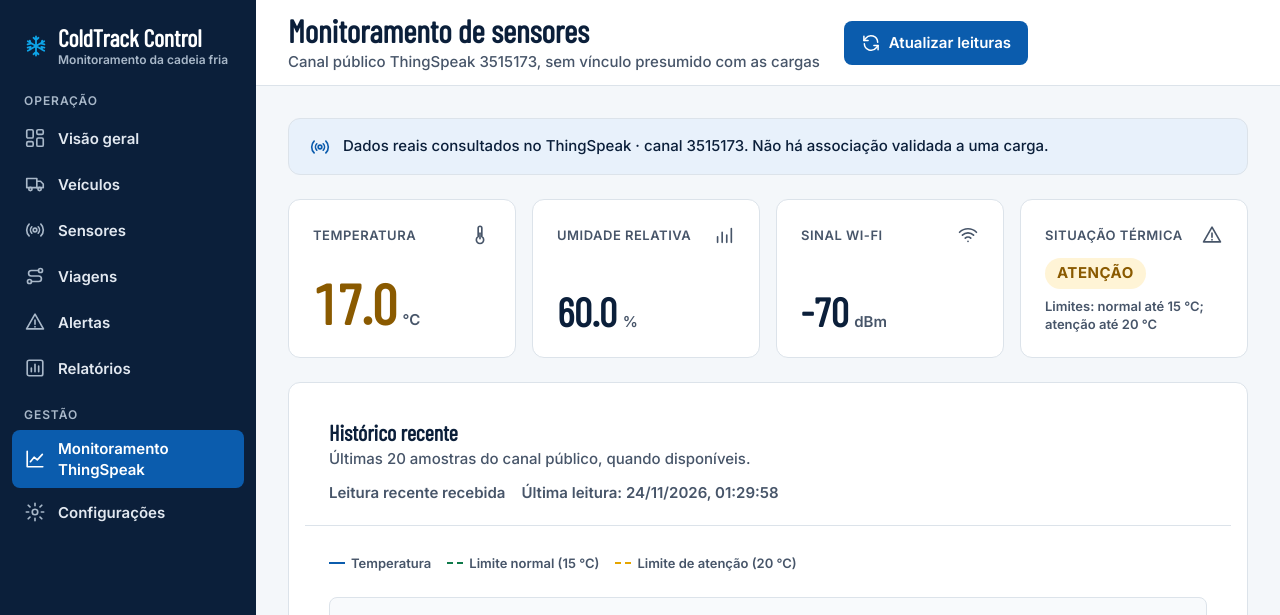
Test: Monitoramento › temperatura acima de 15 e de 20: Atenção e Crítico
Check: the text with id "situacao" reads "Atenção", box 1057,263 -> 1134,282
Click the button "Atualizar leituras" at (936,43), box 844,21 -> 1028,65
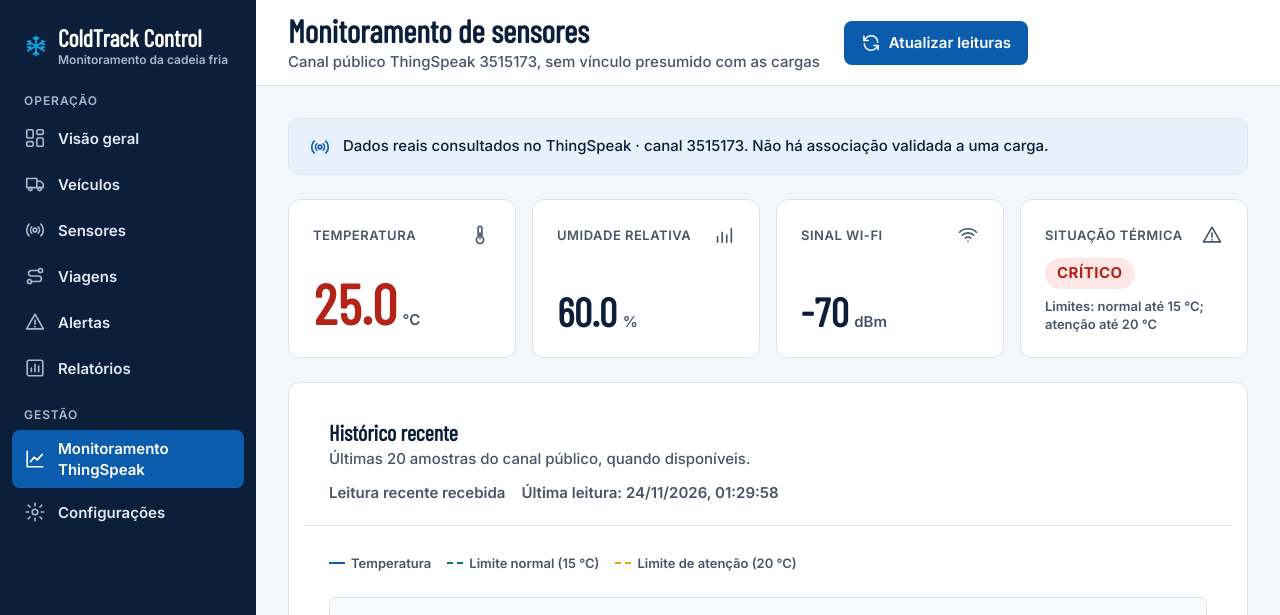
Check: the text with id "situacao" reads "Crítico", box 1057,263 -> 1122,282
